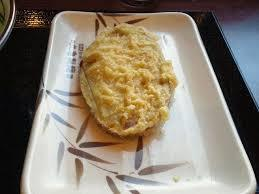satumaimo: (88, 24, 174, 136)
